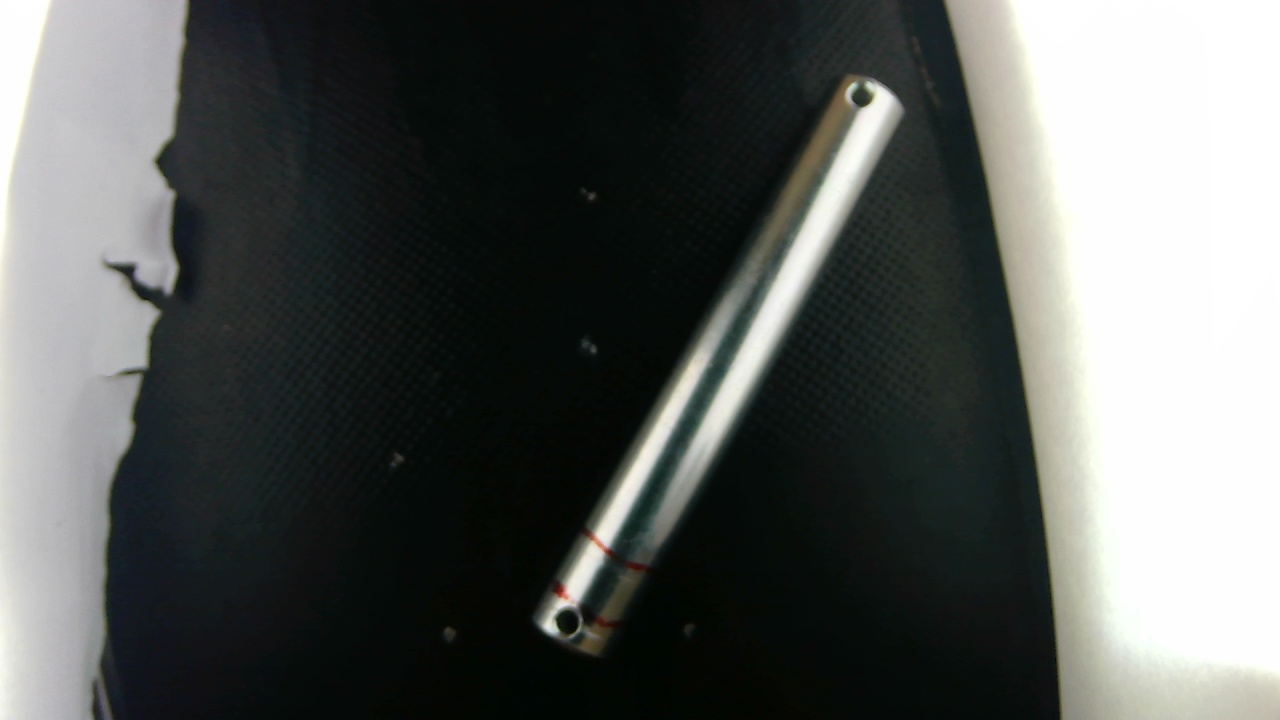odlinemark_pin: (564, 535, 644, 596)
